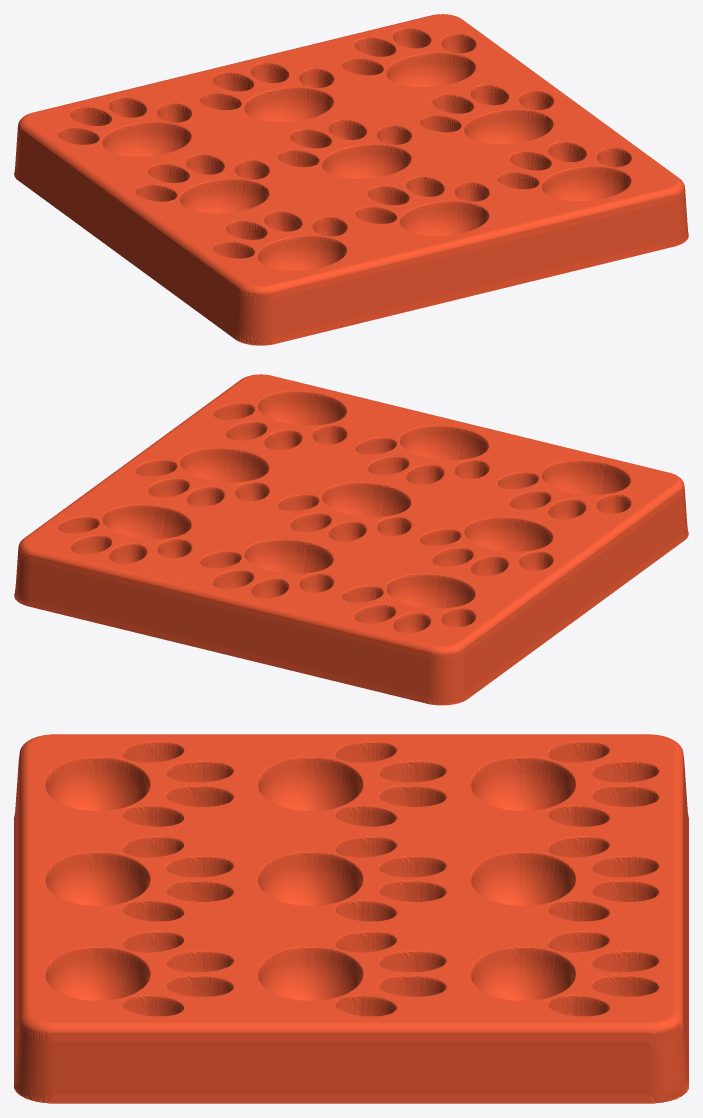
Rendered from mold.glb.
3 views of the same model, one above another, from view 1: azimuth 30°, elevation 25°; view 2: azimuth 150°, elevation 25°; view 3: azimuth 270°, elevation 25° (orthographic). The views are drawn at different scales.
Parts seen in each view (by area): view 1: geometry_0; view 2: geometry_0; view 3: geometry_0.
Boxes of the visible parts, x1=… form: geometry_0: x1=14, y1=14, x2=688, y2=345; geometry_0: x1=14, y1=374, x2=688, y2=705; geometry_0: x1=14, y1=734, x2=688, y2=1103.
Size of the model in its own units: 0.1595 by 0.0185 by 0.1515.
